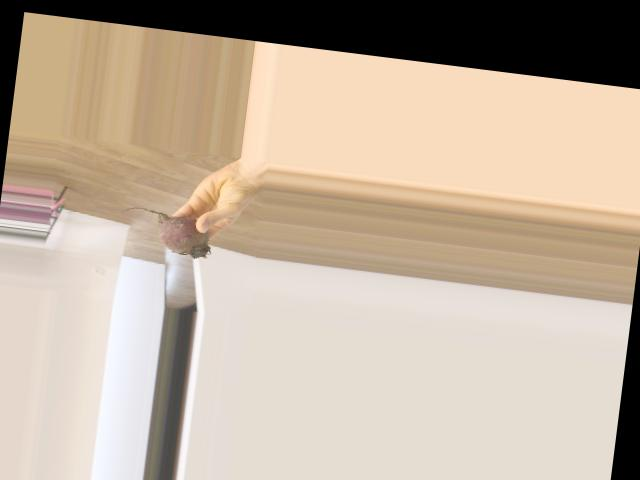beet: (116, 205, 214, 259)
